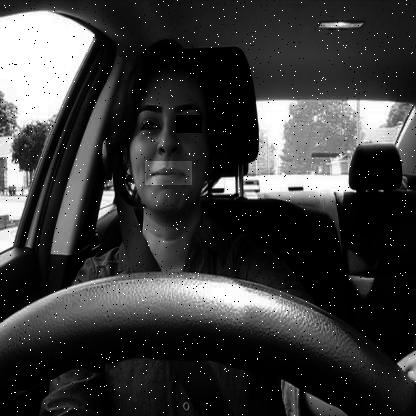seatbelt: (103, 29, 241, 416)
